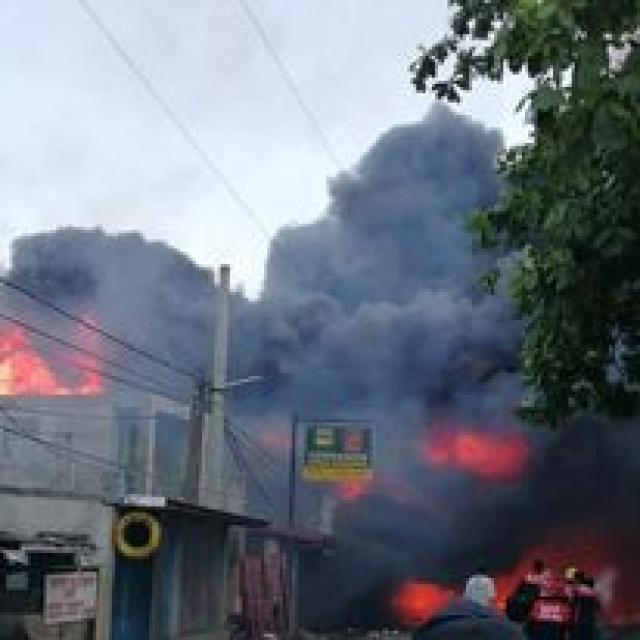Fire: (424, 418, 542, 488), (0, 327, 103, 399), (386, 571, 458, 640)
Smoke: (0, 93, 514, 391), (307, 400, 640, 563)
